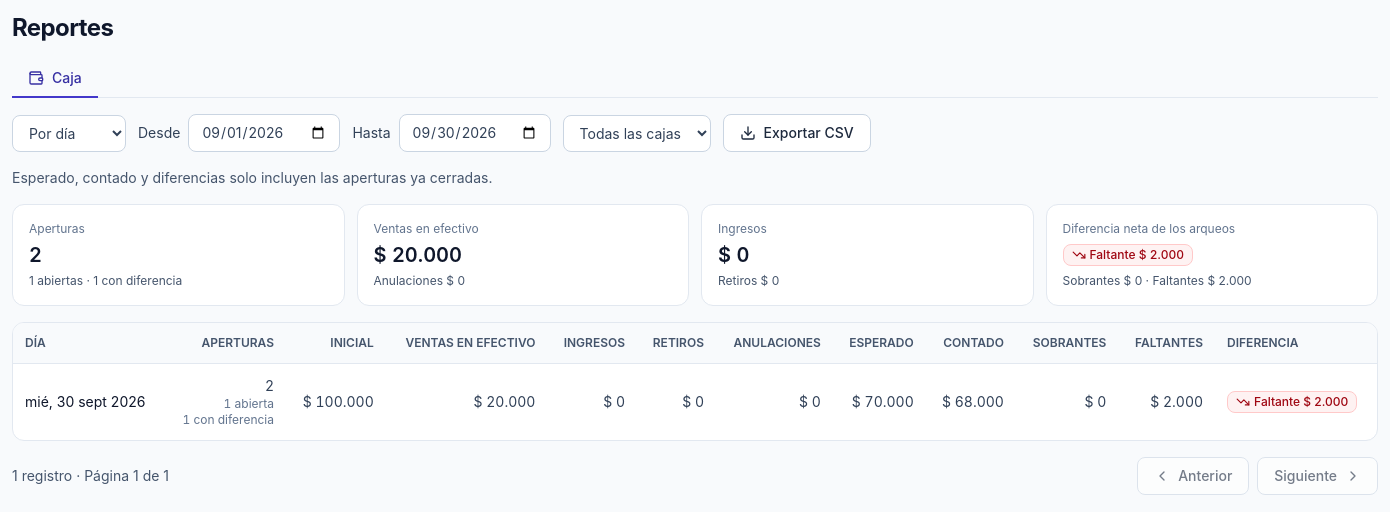
ReportsPage › shows cash differences with color, icon and text
Select "Por caja" in the 1st dropdown named "Agrupar por" at (69, 134), box [12,115,126,152]
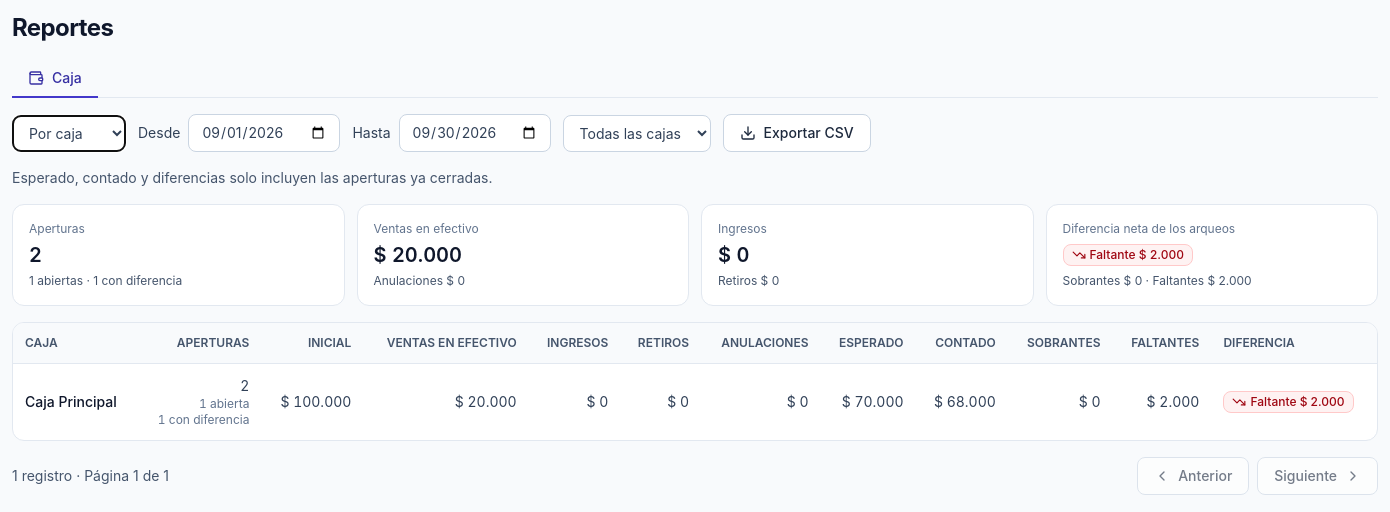
Expected: the text "Faltante $ 2.000" in the row of "Caja Principal" is shown, [1250,394,1344,408]
Expected: the text "1 abierta" is shown, [199,396,249,411]
// Rows of another grouping are never shown under the new columns (ids as dates).
Select "Por día" in the 1st dropdown named "Agrupar por" at (69, 134), box [12,115,126,152]
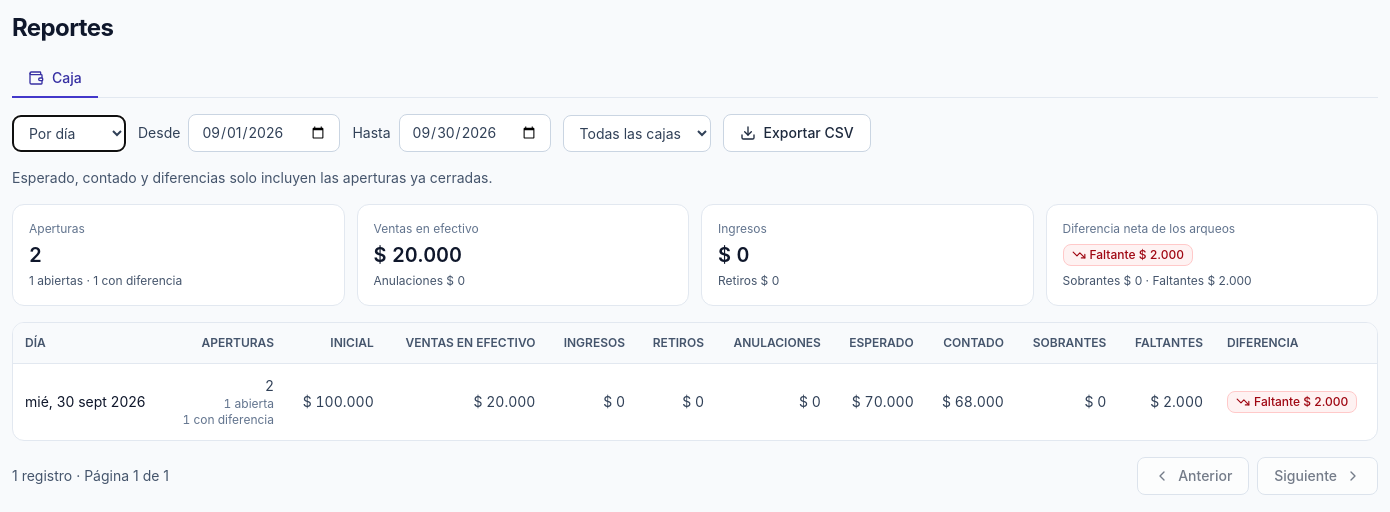
Expected: the row "30 sept 2026" is shown, [13,364,1377,440]
